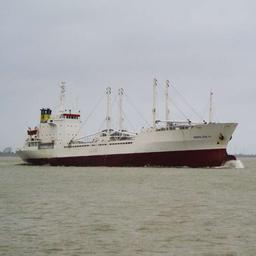Ship: (17, 72, 237, 171)
